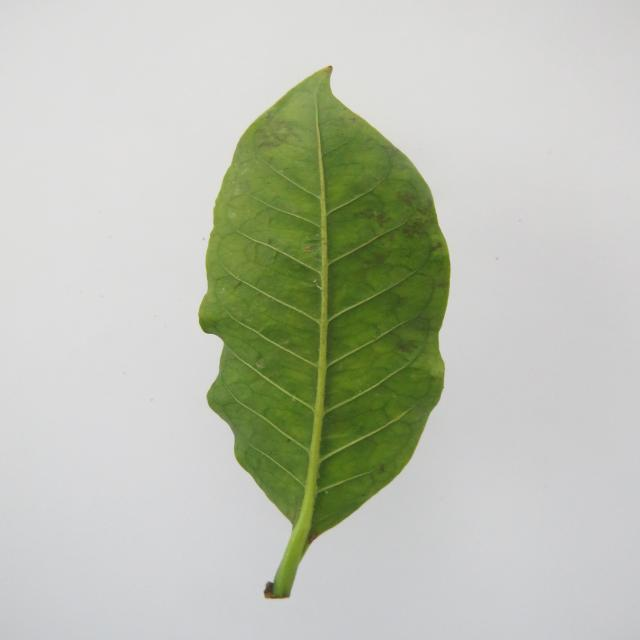DeficienciaNutricional-Calcio: (200, 68, 450, 599)
